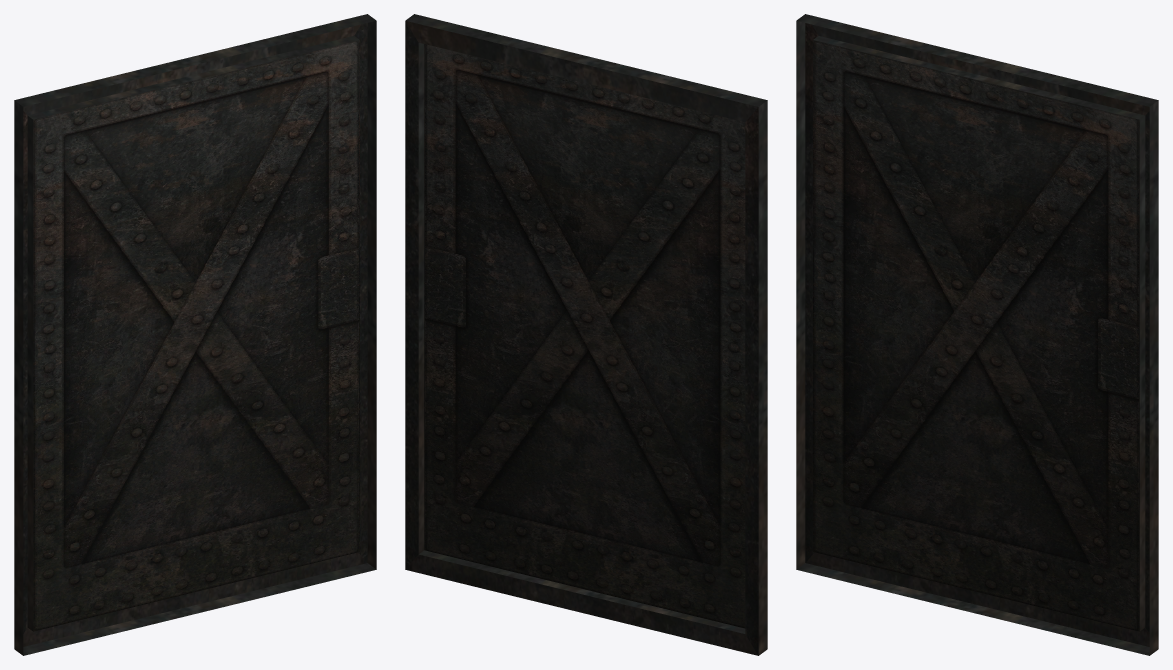
File: Top_Door.fbx
3 renders of one model, left to right at view 1: azimuth 30°, elevation 25°; view 2: azimuth 150°, elevation 25°; view 3: azimuth 330°, elevation 25°, orthographic.
Visible parts, largest first — view 1: Top door; view 2: Top door; view 3: Top door.
Part boxes in pixels (x1,y1,x2,y2): Top door: (14, 14, 376, 655); Top door: (405, 14, 767, 655); Top door: (796, 14, 1158, 655).
Bounding box in the file's own units: 72.23 × 107 × 3.25.
1 material, 1 textured.
